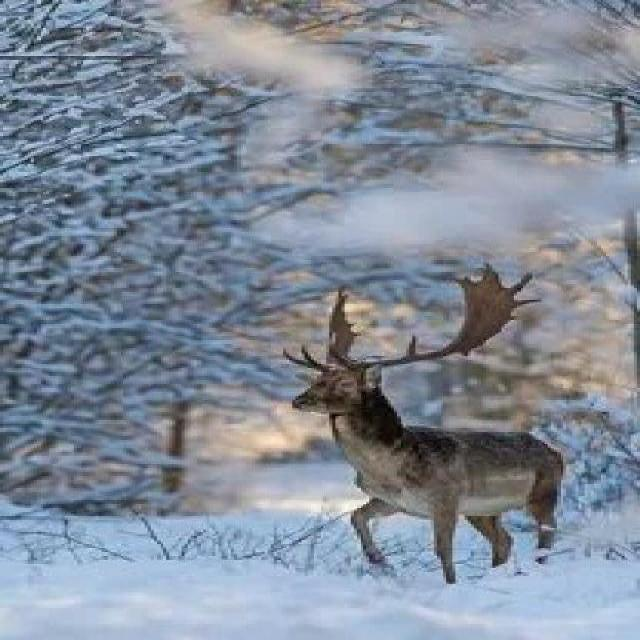deer: (241, 313, 640, 624)
